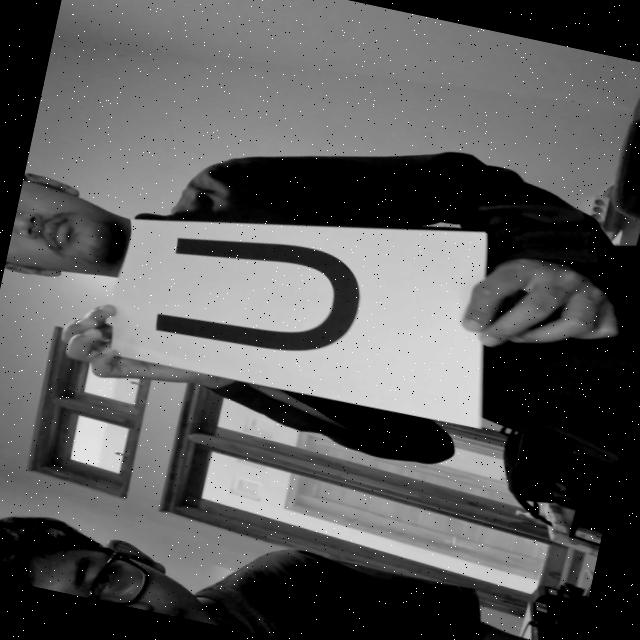u: (124, 178, 446, 404)
